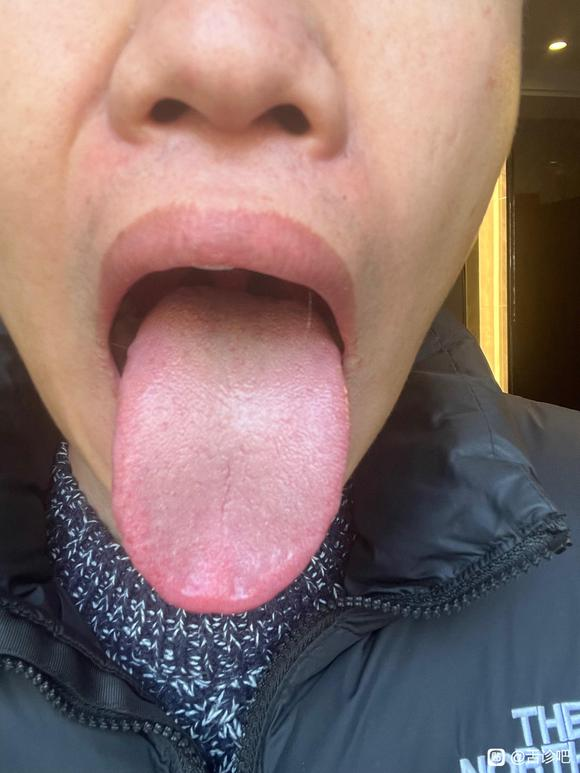baitaishe: (110, 285, 349, 615)
